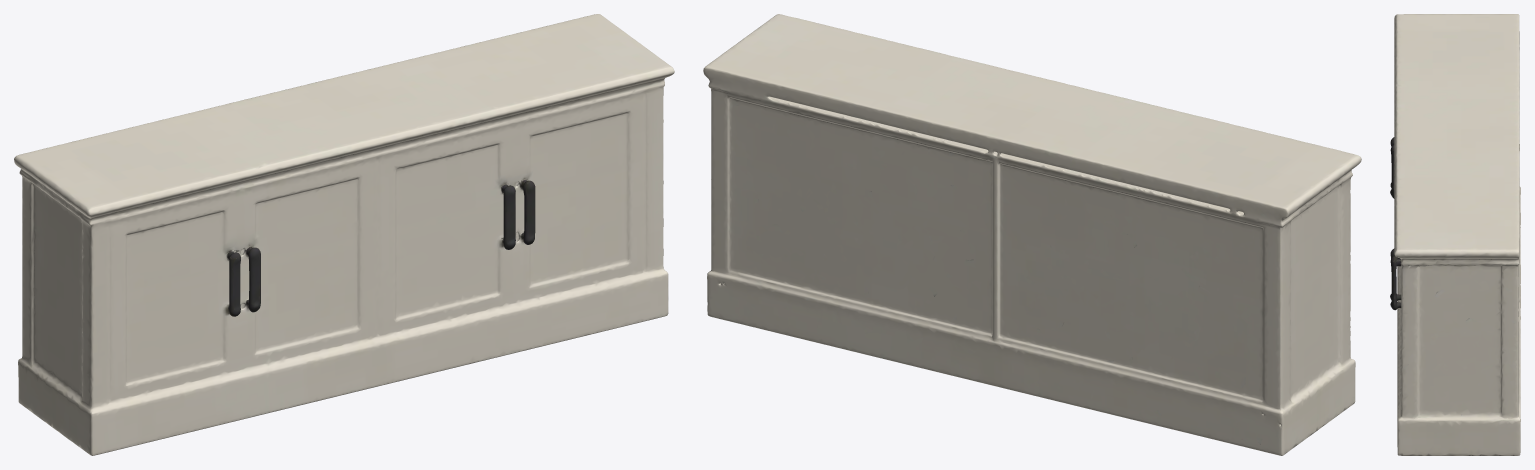
Rendered from sideboard_001.glb.
The picture shows the model from 3 angles, left to right: view 1: azimuth 30°, elevation 25°; view 2: azimuth 150°, elevation 25°; view 3: azimuth 270°, elevation 25°; orthographic projection. The views are drawn at different scales.
Parts seen in each view (by area): view 1: world; view 2: world; view 3: world.
Part boxes in pixels (box(x1,y1,x2,y2)): world: box(14, 14, 674, 455); world: box(703, 14, 1361, 455); world: box(1390, 14, 1520, 455).
Size of the model in its own units: 1 by 0.4072 by 0.2326.
1 material, 1 textured.
